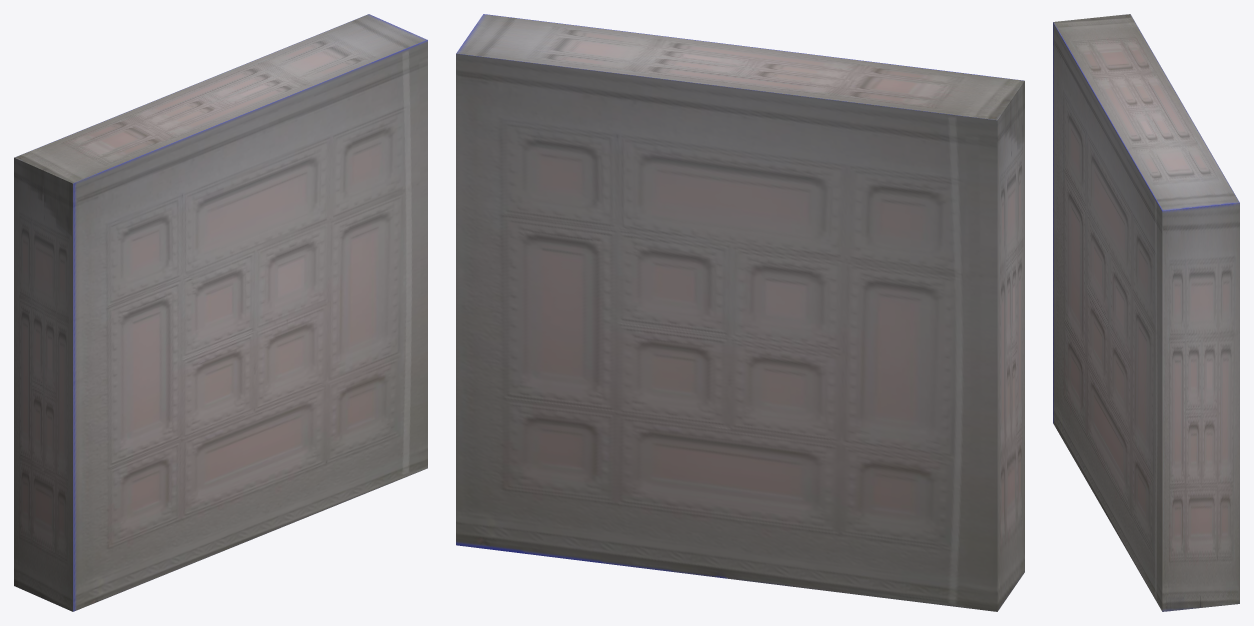
File: Techo.glb
3 renders of one model, left to right at view 1: azimuth 30°, elevation 25°; view 2: azimuth 150°, elevation 25°; view 3: azimuth 270°, elevation 25°, orthographic. The views are drawn at different scales.
Parts seen in each view (by area): view 1: mesh_id38; view 2: mesh_id38; view 3: mesh_id38.
Boxes of the visible parts, left/top/right/bottom form: mesh_id38: left=14, top=14, right=427, bottom=611; mesh_id38: left=456, top=14, right=1024, bottom=611; mesh_id38: left=1053, top=14, right=1239, bottom=611.
Size of the model in its own units: 0.5781 by 0.5492 by 0.232.
Materials: 1 (1 with a texture image).
